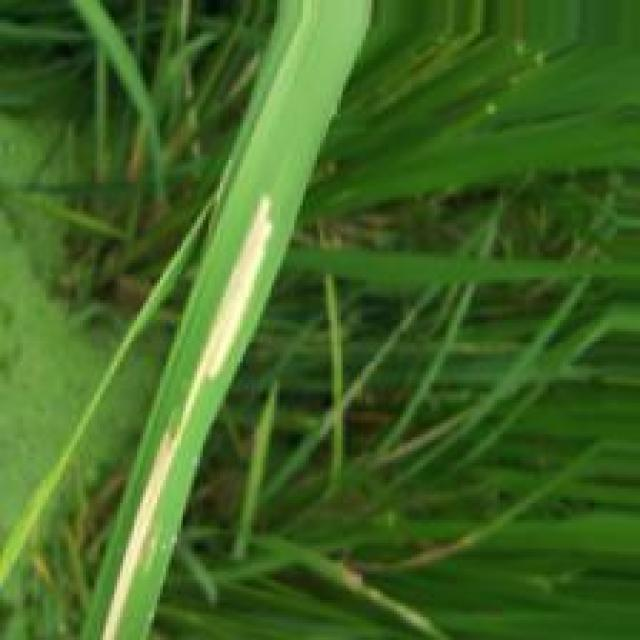Rice_Hispa: (105, 197, 270, 640)
